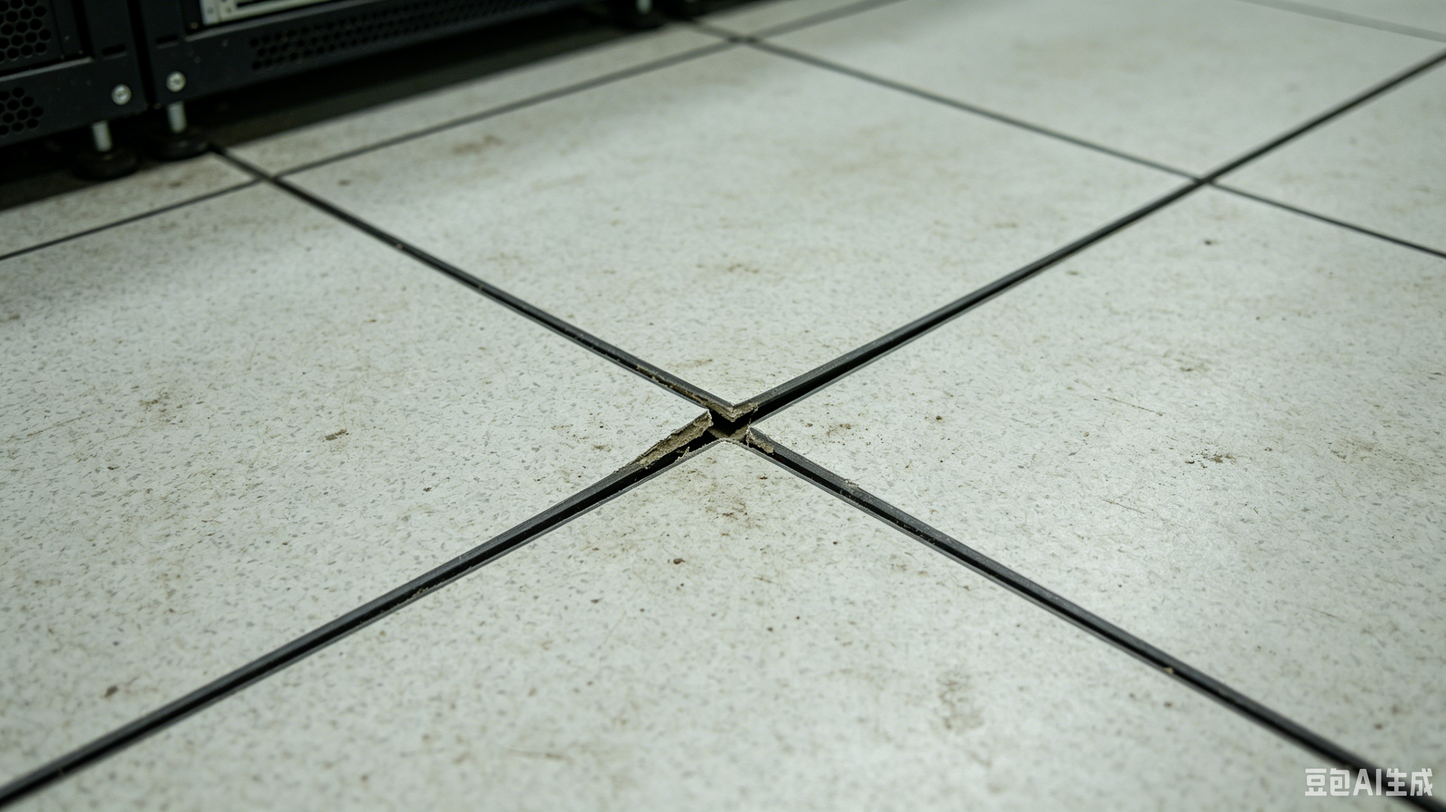floor_defect: (493, 279, 899, 525)
